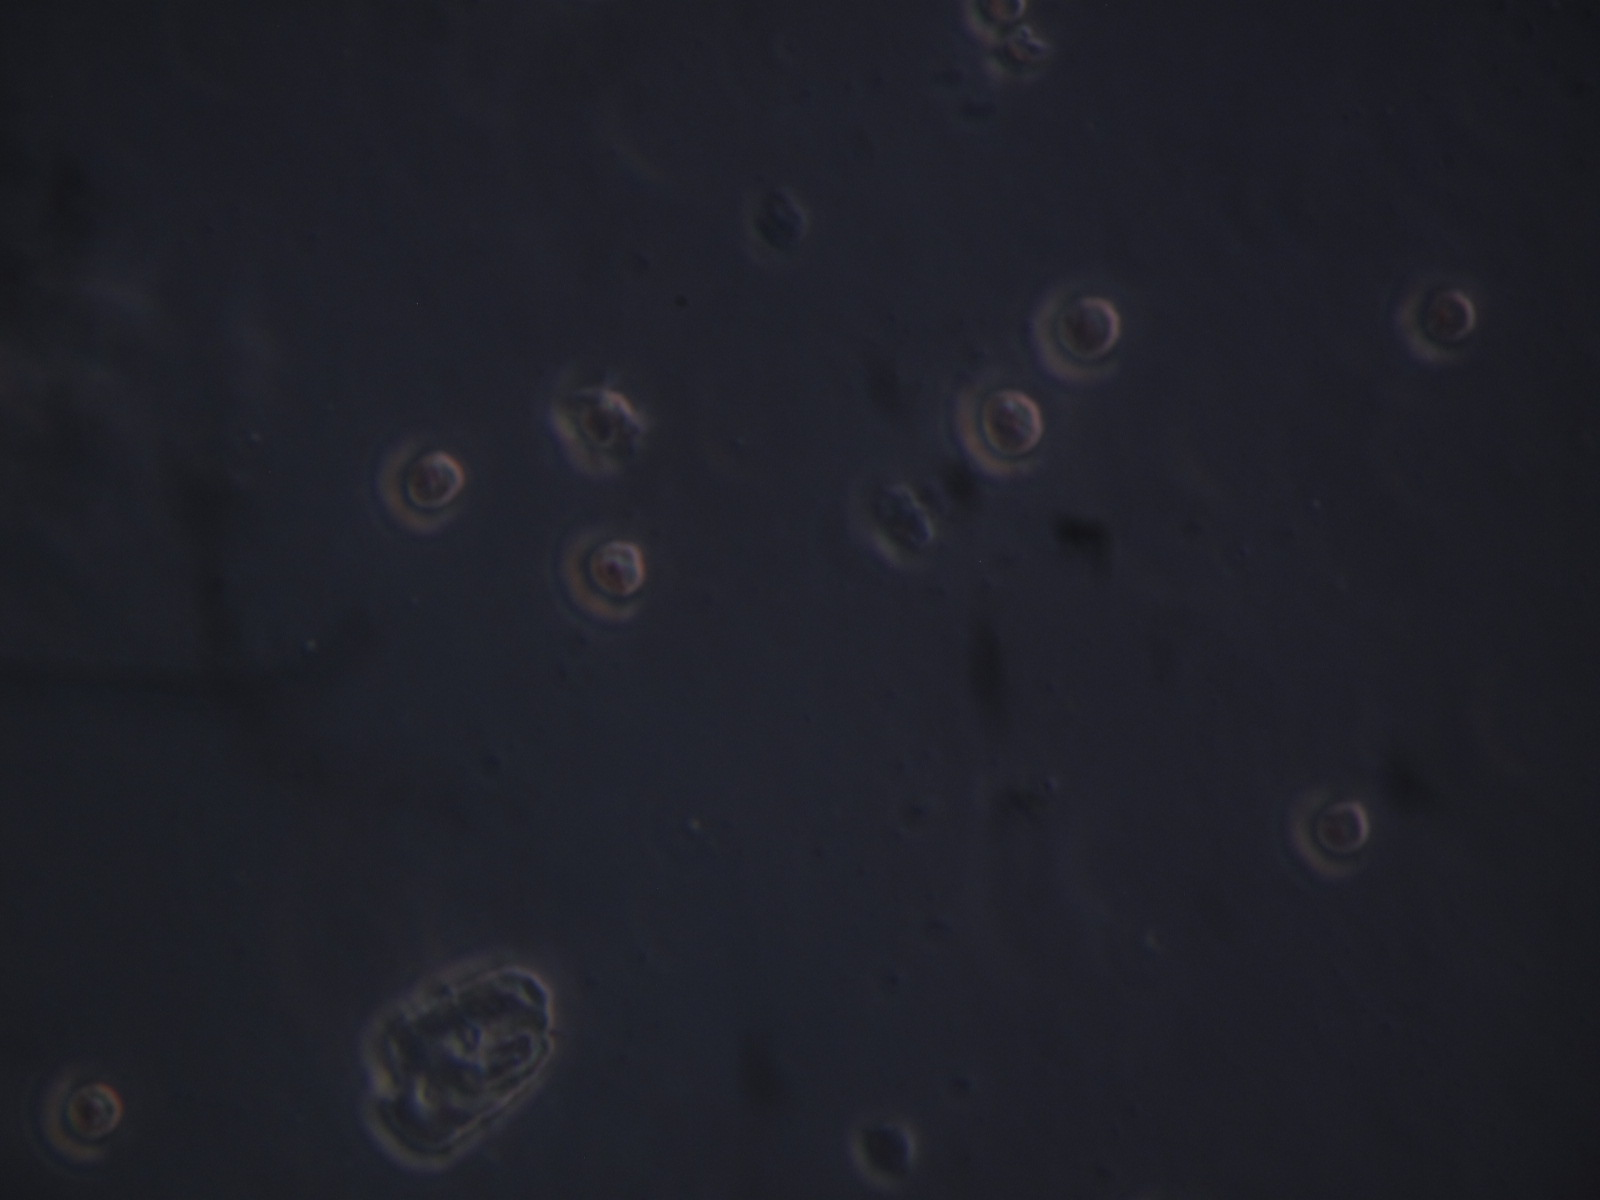hemo: (1036, 279, 1120, 391), (952, 383, 1048, 480), (548, 376, 641, 475), (558, 527, 650, 626), (373, 436, 462, 537), (39, 1065, 125, 1165), (1290, 792, 1369, 880), (1401, 275, 1477, 362), (736, 179, 813, 261), (964, 1, 1028, 38)
